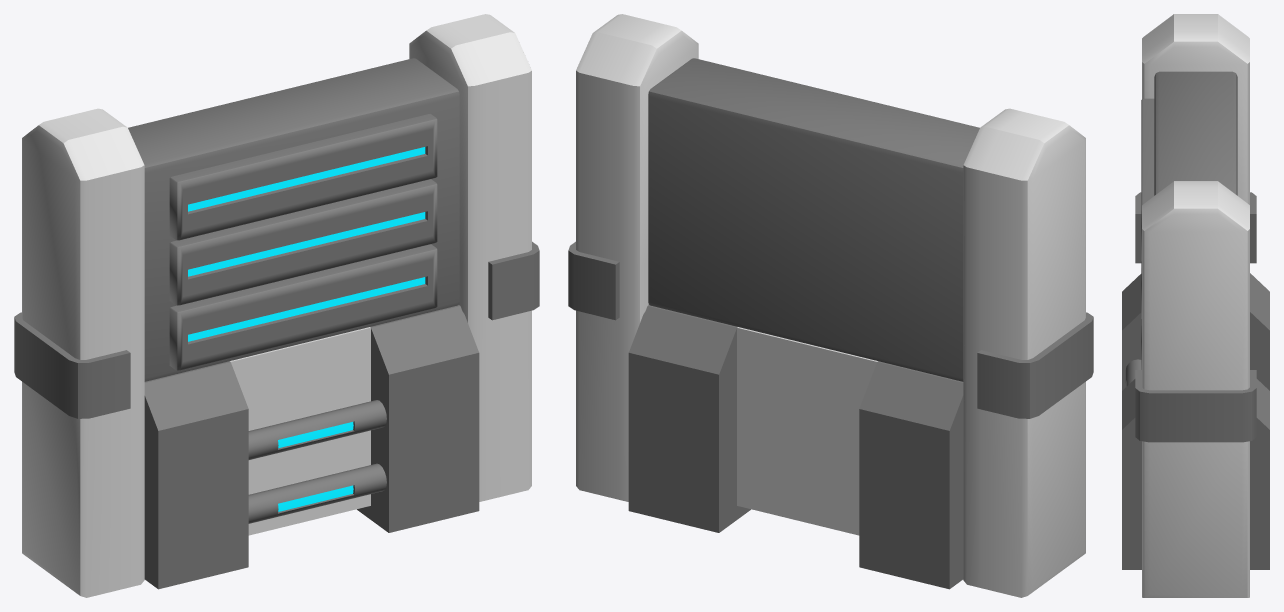
The model's file is stair_mod.glb.
The picture shows the model from 3 angles, left to right: view 1: azimuth 30°, elevation 25°; view 2: azimuth 150°, elevation 25°; view 3: azimuth 270°, elevation 25°; orthographic projection. The views are drawn at different scales.
Parts seen in each view (by area): view 1: 立方体.002, 平面, 立方体, 立方体.003, 立方体.001, 柱体.001, 柱体; view 2: 立方体.002, 立方体.003, 立方体, 立方体.001; view 3: 立方体.002, 立方体, 立方体.003, 平面, 柱体.
Part boxes in pixels (<box>): 立方体.002: <box>14,14,539,597</box>; 平面: <box>169,114,437,370</box>; 立方体: <box>144,305,479,589</box>; 立方体.003: <box>128,58,459,381</box>; 立方体.001: <box>230,327,370,535</box>; 柱体.001: <box>248,463,386,523</box>; 柱体: <box>248,400,386,459</box>; 立方体.002: <box>568,14,1093,597</box>; 立方体.003: <box>648,58,979,381</box>; 立方体: <box>628,305,963,589</box>; 立方体.001: <box>737,327,877,535</box>; 立方体.002: <box>1135,14,1256,597</box>; 立方体: <box>1122,273,1269,569</box>; 立方体.003: <box>1154,71,1237,195</box>; 平面: <box>1141,98,1154,369</box>; 柱体: <box>1125,359,1141,386</box>.
Size of the model in its own units: 2.56 by 2.32 by 0.7912.
